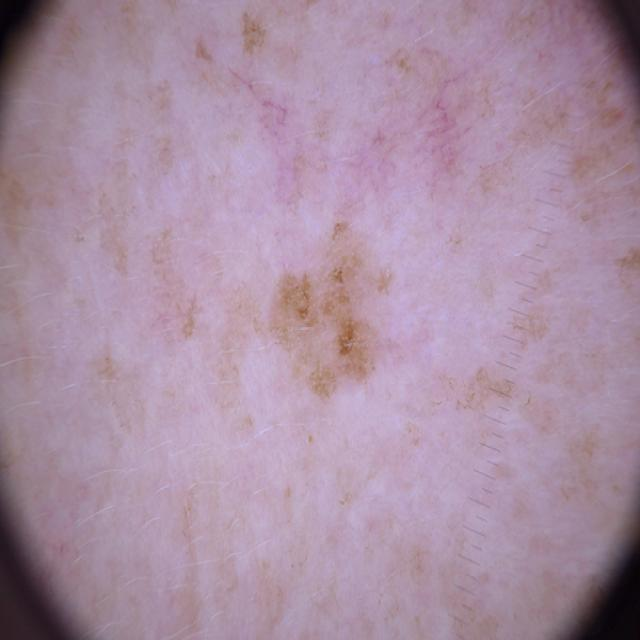Skin-Cancer Pigmented benign keratosis: (7, 21, 640, 619)
